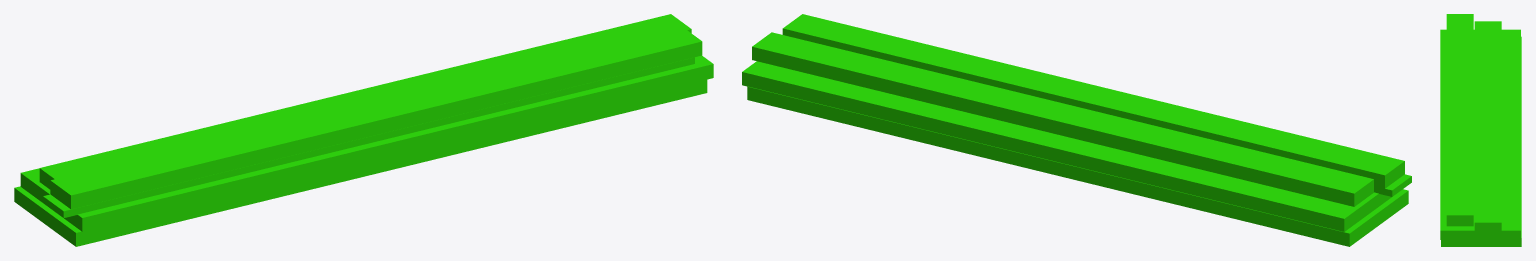
The model's file is Factory_Boards_Grp_03.fbx.
3 views of the same model, side by side, from view 1: azimuth 30°, elevation 25°; view 2: azimuth 150°, elevation 25°; view 3: azimuth 270°, elevation 25° (orthographic). The views are drawn at different scales.
Visible parts, largest first — view 1: Factory_Boards_Grp_03; view 2: Factory_Boards_Grp_03; view 3: Factory_Boards_Grp_03.
Part boxes in pixels (bbox=[...]): Factory_Boards_Grp_03: bbox=[14, 14, 713, 246]; Factory_Boards_Grp_03: bbox=[742, 14, 1411, 246]; Factory_Boards_Grp_03: bbox=[1440, 14, 1521, 246].
Size of the model in its own units: 523 by 37.27 by 86.6.
